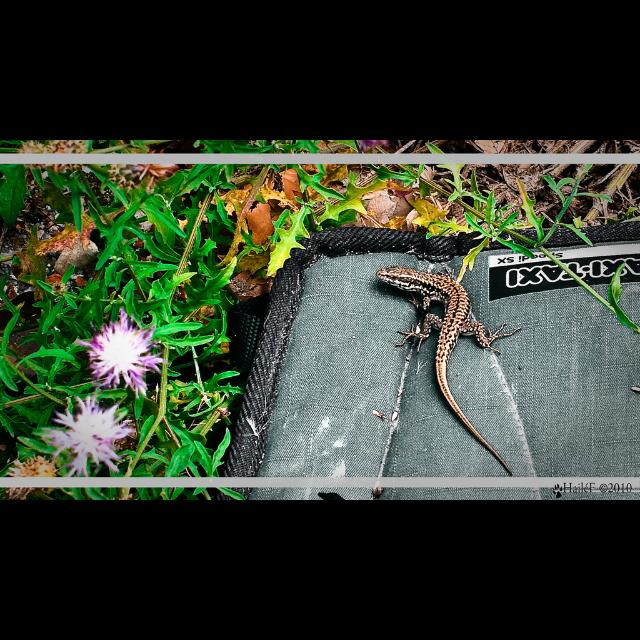Flower: (41, 395, 139, 483), (74, 309, 158, 393)
